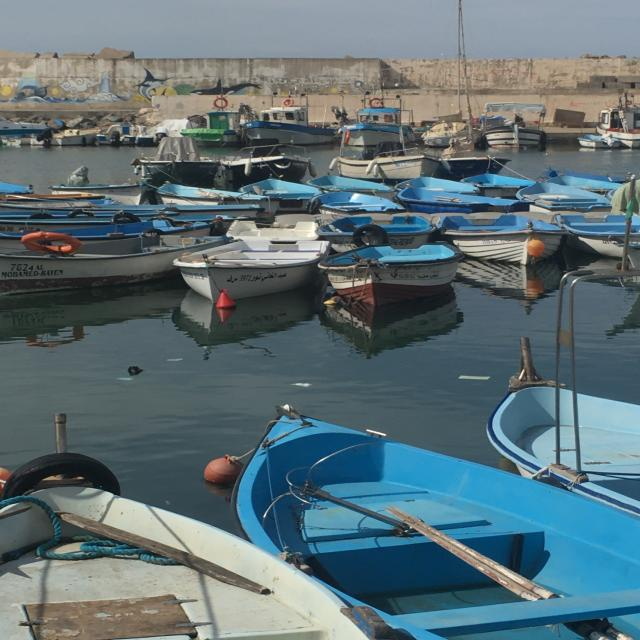Plastic: (457, 374, 491, 381), (289, 382, 314, 388), (115, 376, 134, 382), (166, 357, 183, 362)
Plastic bag: (128, 364, 144, 376)
